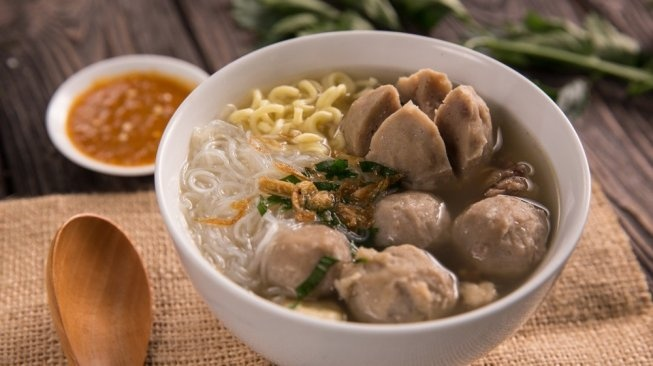bakso_malang: (181, 66, 560, 324)
